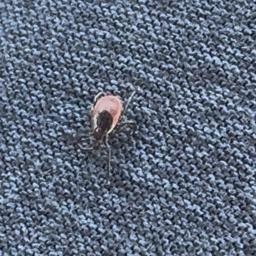Ixodes scapularis: (78, 89, 135, 178)
